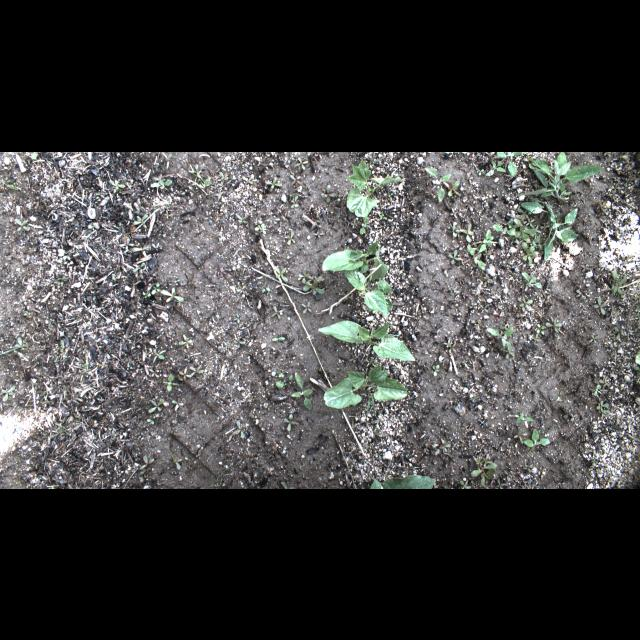crop: (321, 238, 391, 318), (323, 362, 409, 408), (318, 320, 416, 360), (346, 156, 402, 216), (368, 474, 436, 488)
weed: (526, 151, 604, 199), (522, 200, 578, 260), (425, 166, 451, 204), (294, 371, 314, 411), (469, 458, 496, 486), (485, 324, 517, 346), (497, 152, 523, 176), (522, 428, 550, 448), (610, 268, 628, 298), (523, 234, 549, 252), (161, 287, 185, 303), (513, 224, 537, 240), (6, 336, 28, 352), (522, 241, 538, 263), (478, 228, 492, 252), (490, 223, 518, 235), (522, 271, 542, 287), (486, 159, 506, 175), (306, 280, 326, 296), (471, 248, 485, 270), (132, 244, 156, 256), (149, 177, 173, 189), (164, 372, 178, 392), (232, 418, 246, 438), (303, 277, 323, 291), (322, 184, 336, 202), (544, 318, 562, 332), (284, 414, 298, 431), (2, 386, 16, 402), (517, 296, 533, 310), (187, 163, 203, 177), (138, 456, 154, 470), (170, 396, 184, 412), (513, 428, 527, 444), (274, 371, 286, 389), (594, 296, 606, 314), (464, 222, 474, 242), (596, 400, 610, 414), (148, 398, 162, 412), (152, 348, 166, 362), (450, 248, 462, 264), (298, 268, 310, 284), (16, 218, 29, 232), (264, 177, 282, 187), (178, 334, 190, 348), (275, 266, 287, 280), (112, 178, 126, 190), (294, 156, 308, 168), (508, 216, 522, 228), (450, 180, 460, 196), (118, 238, 134, 248), (360, 214, 368, 233), (271, 306, 283, 318), (272, 214, 288, 223), (515, 414, 533, 422), (504, 342, 514, 356), (614, 326, 624, 340), (479, 276, 493, 286), (133, 214, 147, 224), (198, 175, 208, 189), (302, 299, 312, 313), (290, 173, 302, 184), (592, 384, 602, 396), (598, 378, 610, 388), (190, 365, 202, 375), (588, 334, 600, 344), (134, 261, 146, 271), (254, 222, 266, 232), (378, 208, 388, 220), (236, 282, 246, 294), (441, 440, 451, 452), (518, 208, 530, 218), (458, 480, 472, 488), (287, 230, 295, 244), (173, 456, 181, 470), (312, 230, 326, 238), (241, 176, 255, 184), (483, 457, 493, 468), (521, 463, 533, 472), (364, 358, 376, 367), (610, 182, 620, 192), (536, 324, 546, 334), (434, 364, 441, 378), (341, 292, 353, 300), (152, 282, 160, 294), (236, 214, 248, 222), (532, 332, 540, 344), (348, 353, 360, 361), (60, 338, 66, 352), (272, 336, 286, 342), (504, 470, 512, 480), (496, 478, 504, 488), (576, 289, 586, 297), (580, 263, 590, 271), (232, 340, 245, 346), (633, 365, 639, 377), (600, 200, 606, 212), (292, 196, 298, 208), (29, 151, 38, 159), (452, 222, 458, 234), (146, 418, 154, 426), (443, 338, 451, 346), (142, 290, 150, 298), (526, 218, 534, 226), (351, 218, 357, 228), (474, 459, 484, 465), (540, 222, 550, 228), (544, 294, 550, 304), (588, 251, 598, 257), (262, 287, 270, 293), (478, 167, 484, 175), (24, 311, 32, 315), (604, 152, 612, 154)
